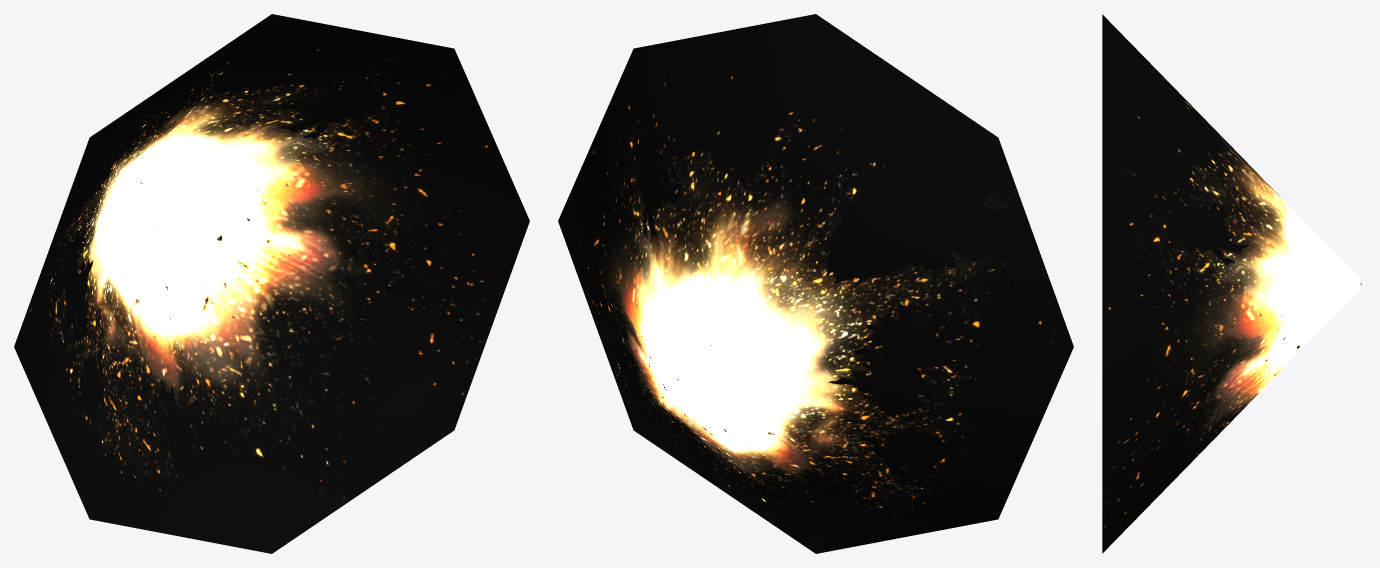
The model's file is muzzle-flash2.glb.
3 renders of one model, left to right at view 1: azimuth 30°, elevation 25°; view 2: azimuth 150°, elevation 25°; view 3: azimuth 270°, elevation 25°, orthographic. The views are drawn at different scales.
Parts seen in each view (by area): view 1: muzzlemesh_1; view 2: muzzlemesh_1; view 3: muzzlemesh_1.
Part boxes in pixels (x1,y1,x2,y2): muzzlemesh_1: (14,14,529,553); muzzlemesh_1: (558,14,1073,553); muzzlemesh_1: (1102,14,1365,553).
Size of the model in its own units: 200 by 200 by 91.76.
1 material, 1 textured.
